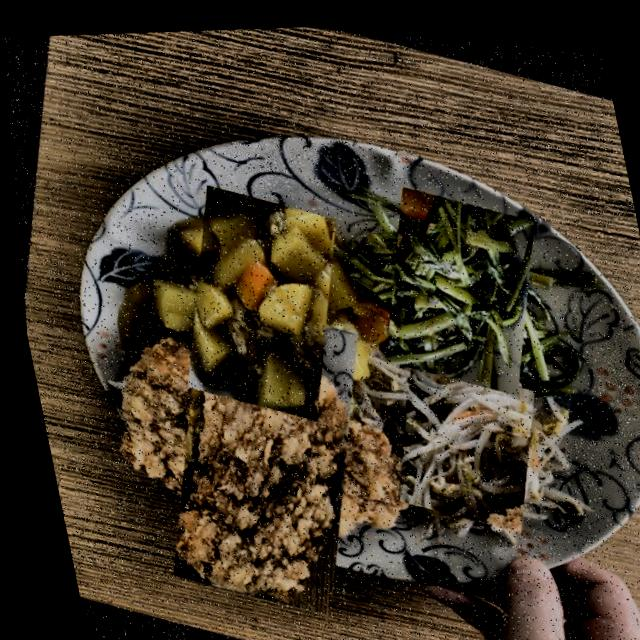Food: (91, 282, 424, 616), (130, 171, 381, 423), (340, 166, 571, 398), (358, 336, 558, 537)
